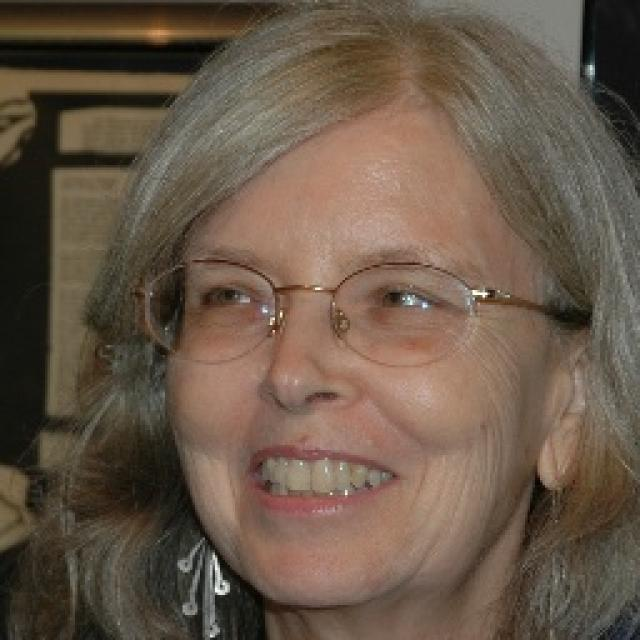earlobe: (537, 438, 582, 492)
eye: (196, 274, 261, 316), (369, 284, 442, 317)
nose: (260, 394, 349, 435)
wholeear: (536, 312, 630, 488)
